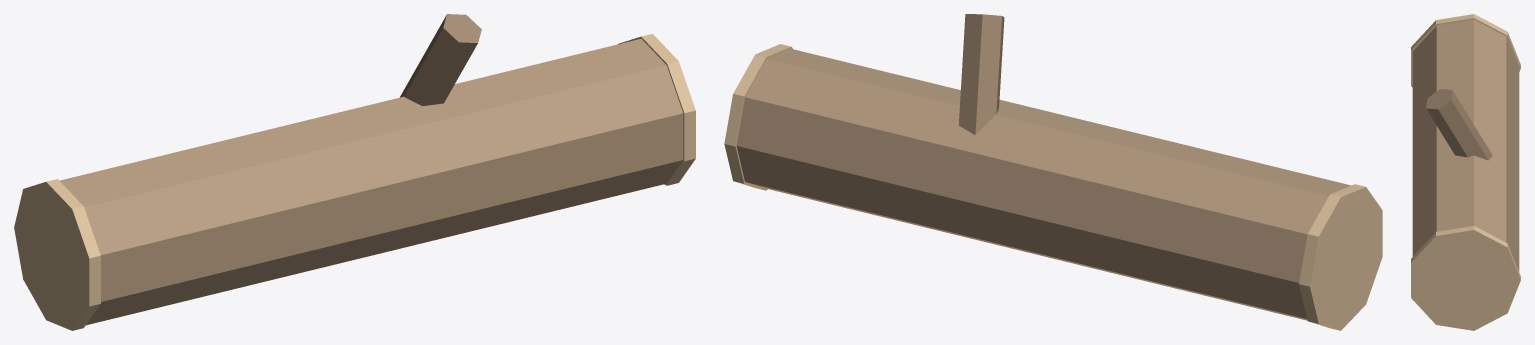
File: log.glb
3 views of the same model, side by side, from view 1: azimuth 30°, elevation 25°; view 2: azimuth 150°, elevation 25°; view 3: azimuth 270°, elevation 25° (orthographic). The views are drawn at different scales.
Parts seen in each view (by area): view 1: log; view 2: log; view 3: log.
Boxes of the visible parts, x1,y1,x2,y2 form: log: [14, 14, 695, 330]; log: [724, 14, 1382, 330]; log: [1411, 14, 1520, 330].
Bounding box in the file's own units: 3.16 × 1.11 × 0.6789.
